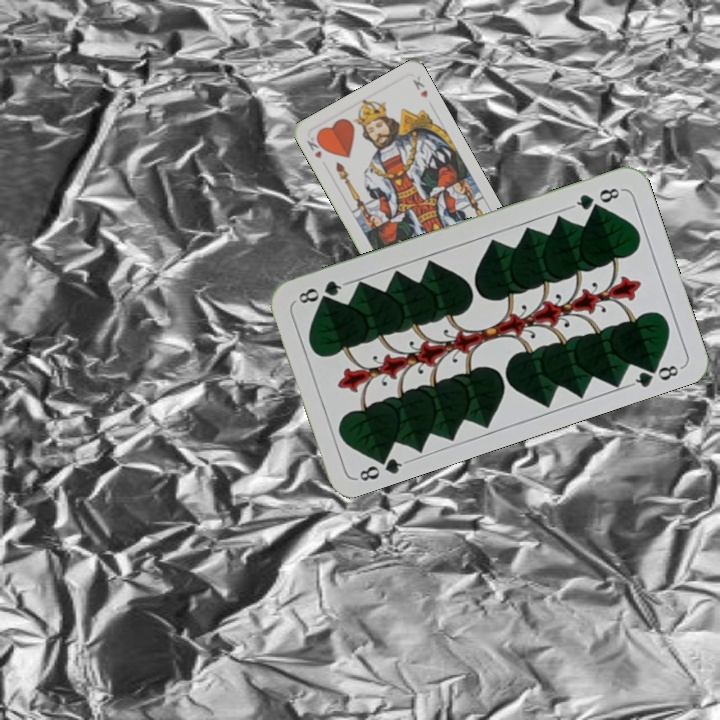G8: (353, 448, 410, 484), (567, 183, 625, 214)
HK: (303, 132, 328, 161)
